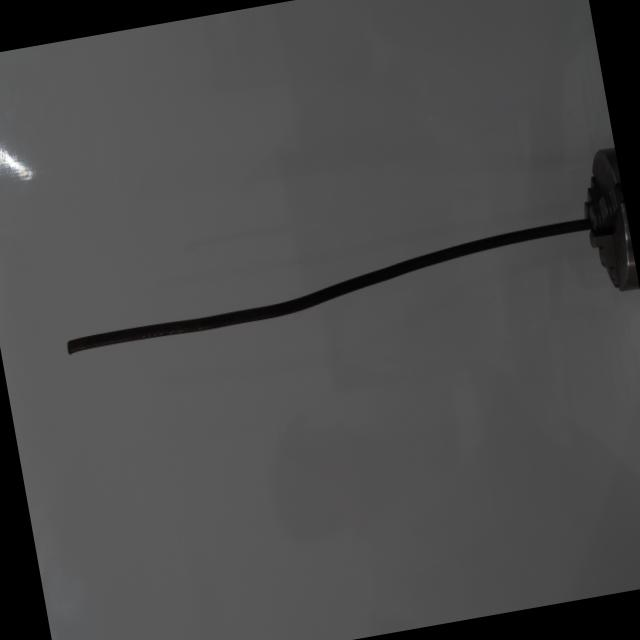plain round bar: (53, 214, 594, 368)
